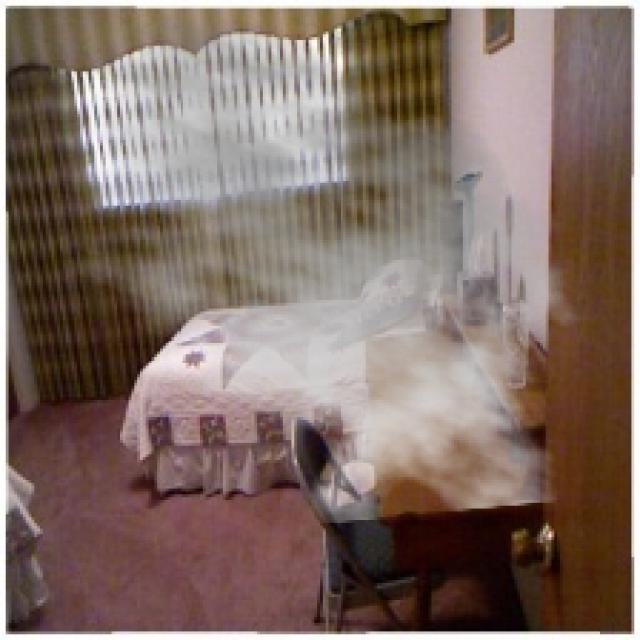smoke: (29, 6, 597, 526)
